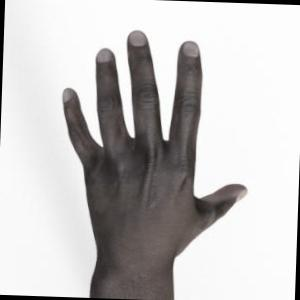paper: (63, 31, 246, 300)
